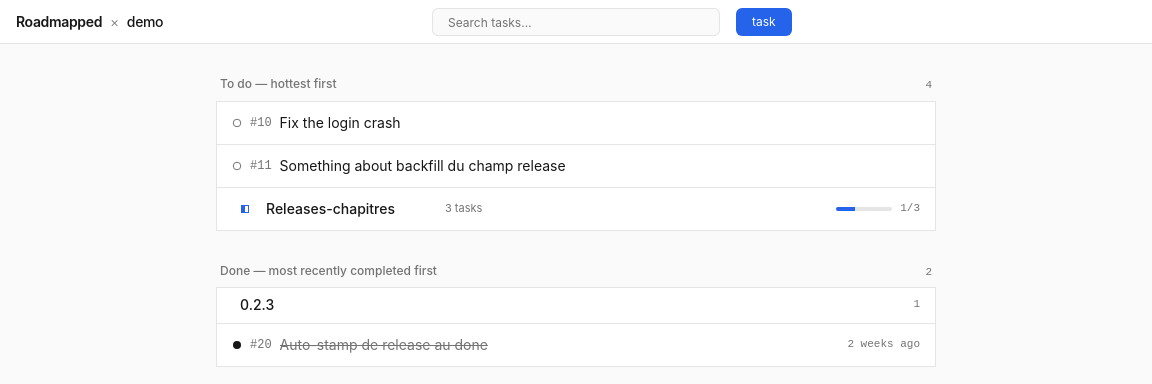
Backlog search (#348) › un ticket TERMINÉ matché DANS un epic complet est VISIBLE en recherche (#348)
The width and height of the screenshot is (1152, 384).
Step 1. Type "Auto-stamp épique" into the field labelled "Search tasks" → (580, 22), box [448,16,712,28]
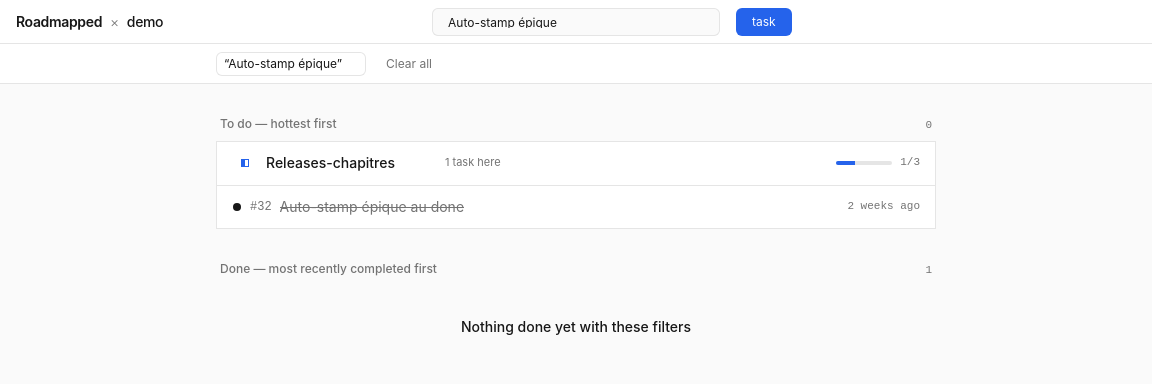
Result: the text "Auto-stamp épique au done" is shown at [280,197,464,217]
